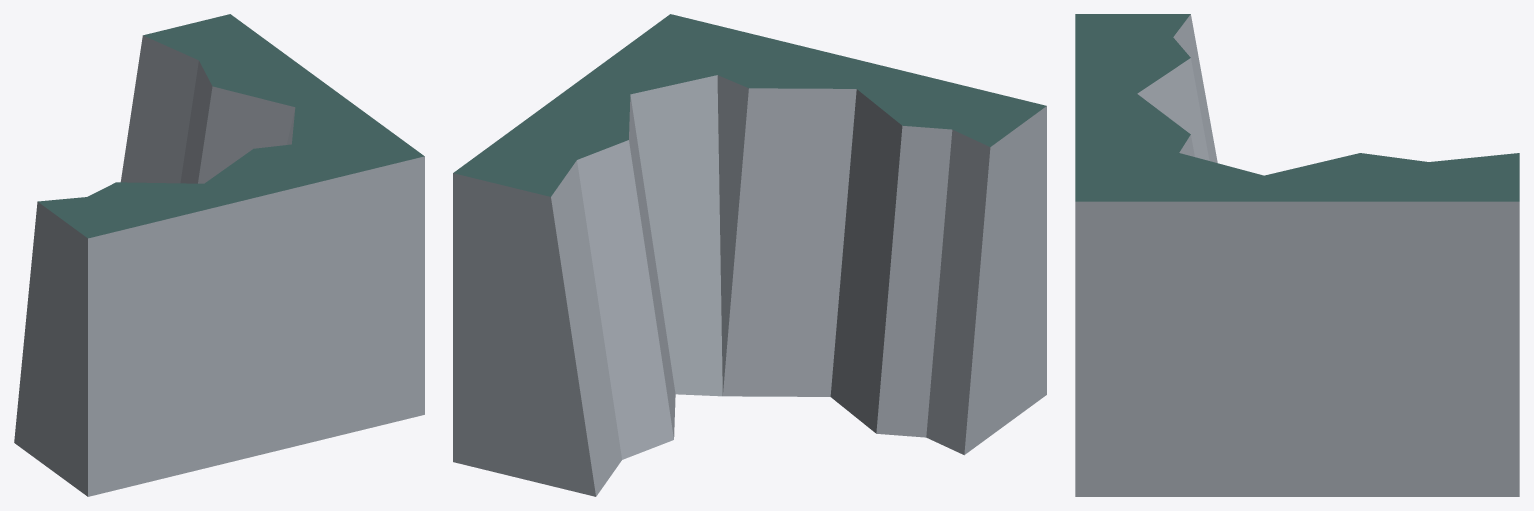
Rendered from Grey_Cliff_Bottom_Inside_Corner_Green_Top_01.obj.
3 renders of one model, left to right at view 1: azimuth 30°, elevation 25°; view 2: azimuth 150°, elevation 25°; view 3: azimuth 270°, elevation 25°, orthographic. The views are drawn at different scales.
Visible parts, largest first — view 1: Mesh1_Grey_Cliff_Bottom_Green_Top_Model.001; view 2: Mesh1_Grey_Cliff_Bottom_Green_Top_Model.001; view 3: Mesh1_Grey_Cliff_Bottom_Green_Top_Model.001.
Boxes of the visible parts, x1,y1,x2,y2 form: Mesh1_Grey_Cliff_Bottom_Green_Top_Model.001: (14, 14, 424, 496); Mesh1_Grey_Cliff_Bottom_Green_Top_Model.001: (453, 14, 1046, 496); Mesh1_Grey_Cliff_Bottom_Green_Top_Model.001: (1075, 14, 1519, 496).
Size of the model in its own units: 3 by 2.2 by 3.
